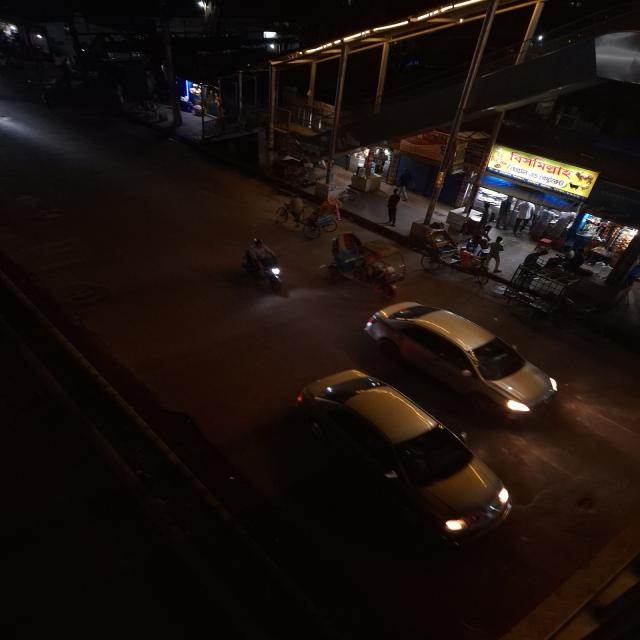car: (291, 368, 518, 554), (361, 298, 566, 420)
motorcycle: (237, 235, 290, 295)
pedestrian: (387, 190, 400, 227)
rickshaw: (325, 230, 410, 298), (413, 221, 495, 287), (270, 197, 342, 234)
